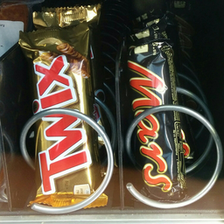chocolate: (16, 24, 109, 208), (128, 34, 187, 202)
